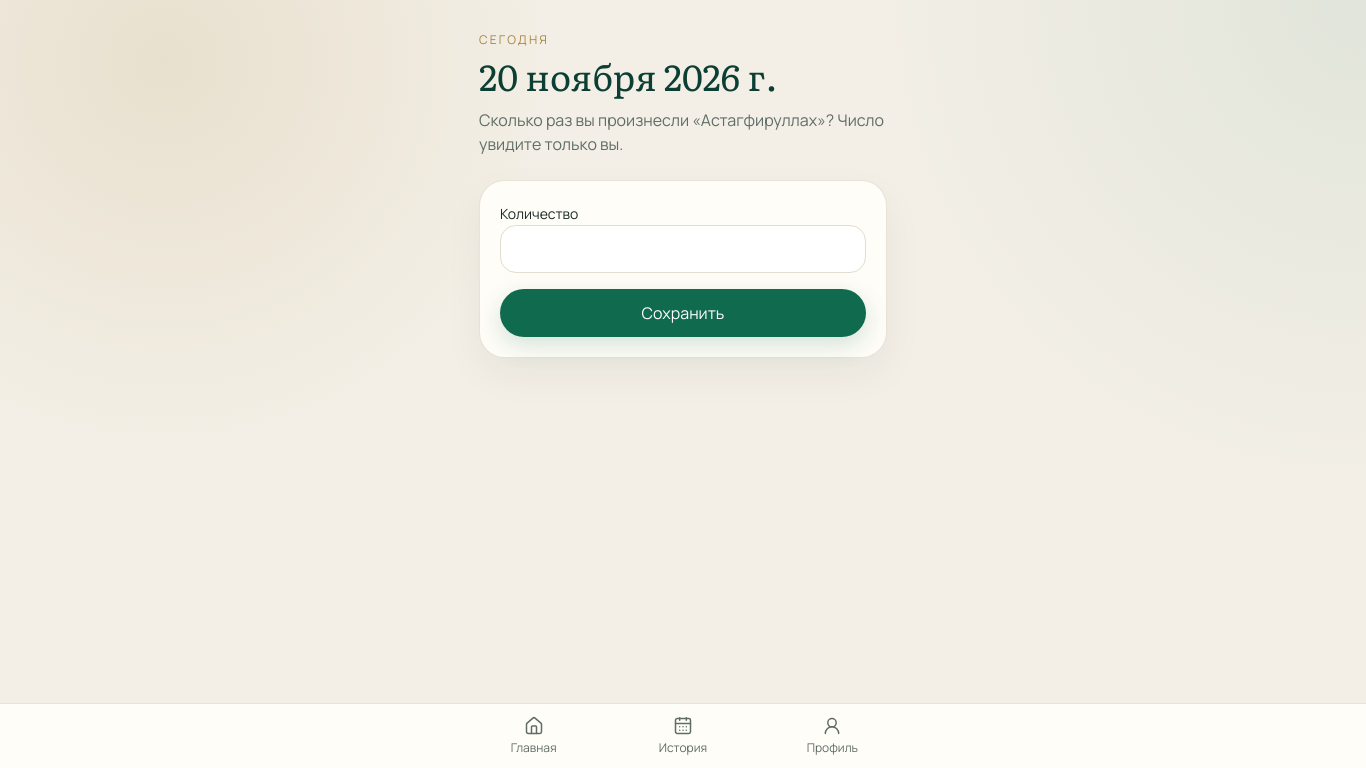
Istighfar interface › validates the daily report and keeps the navigation available
Type "-5" into the field labelled "Количество".
click(683, 249); type("-5")  # box [500, 225, 866, 273]
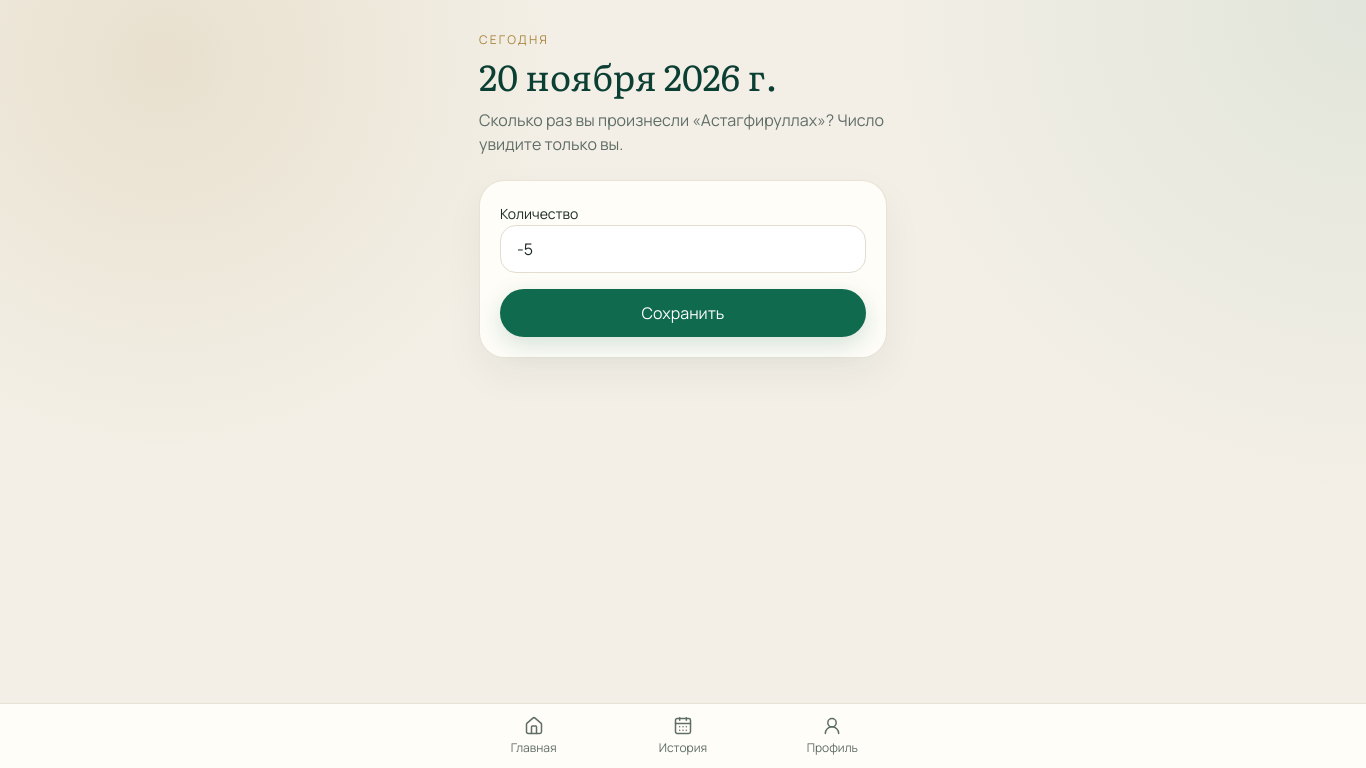
Click the button "Сохранить".
click(683, 313)  # box [500, 289, 866, 337]
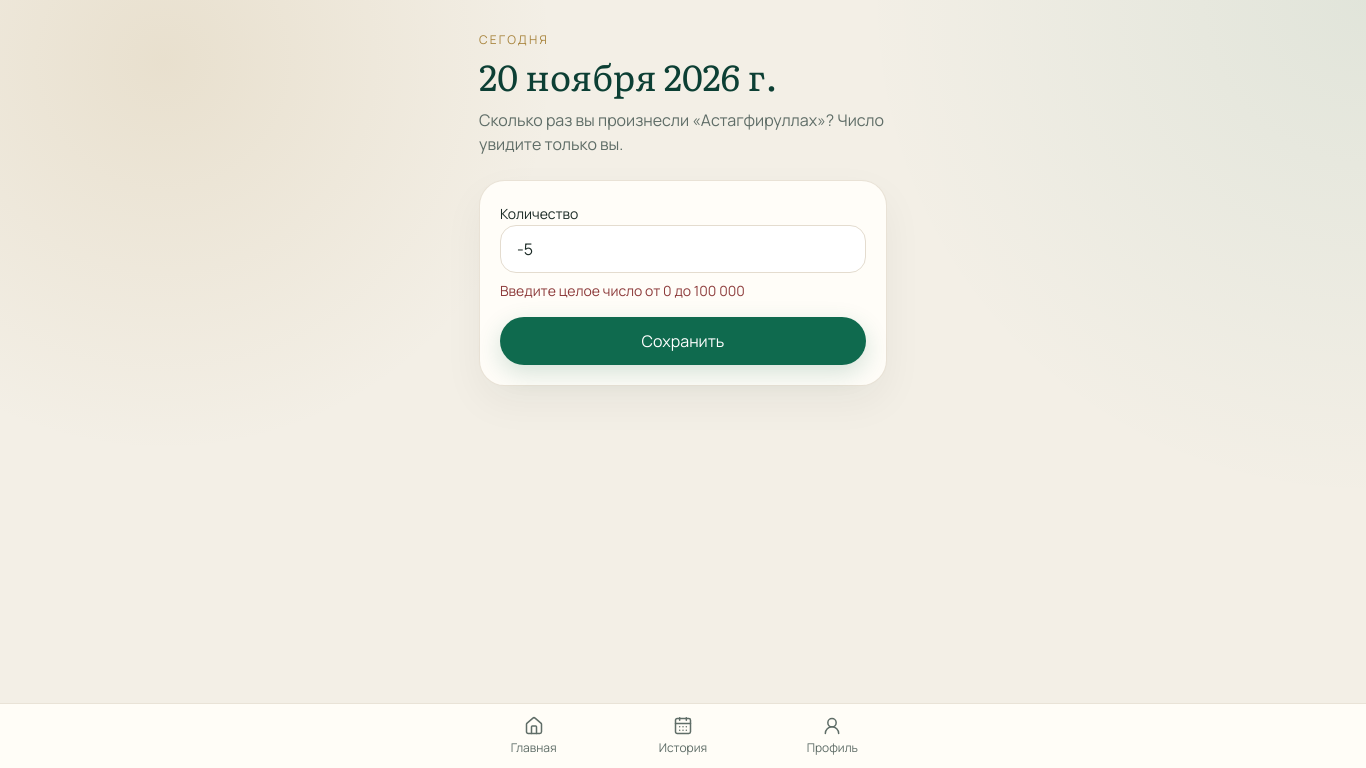
Expected: the text "Введите целое число от 0 до 100 000" is shown, [500, 281, 745, 300]
Click the link "История".
click(683, 736)  # box [659, 716, 707, 756]
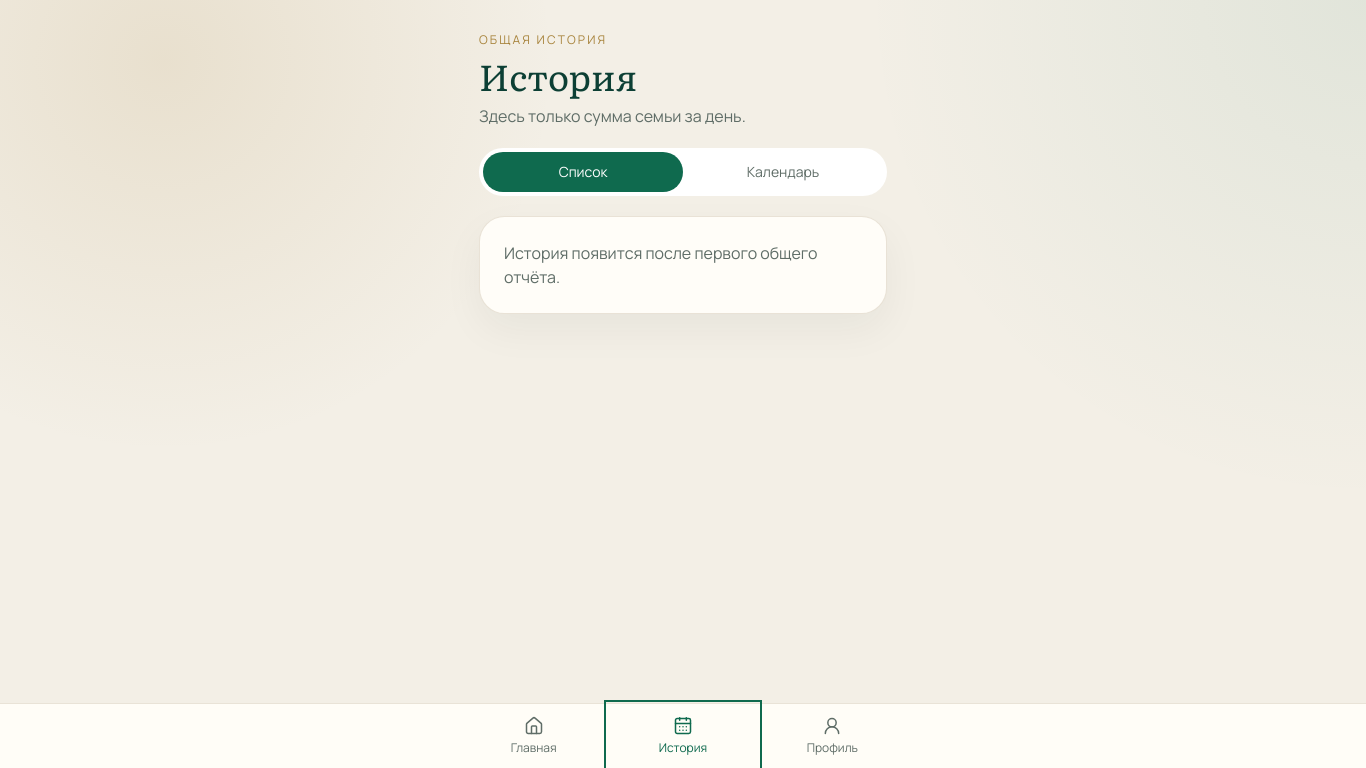
Expected: the heading "История" is shown, [479, 49, 637, 102]
